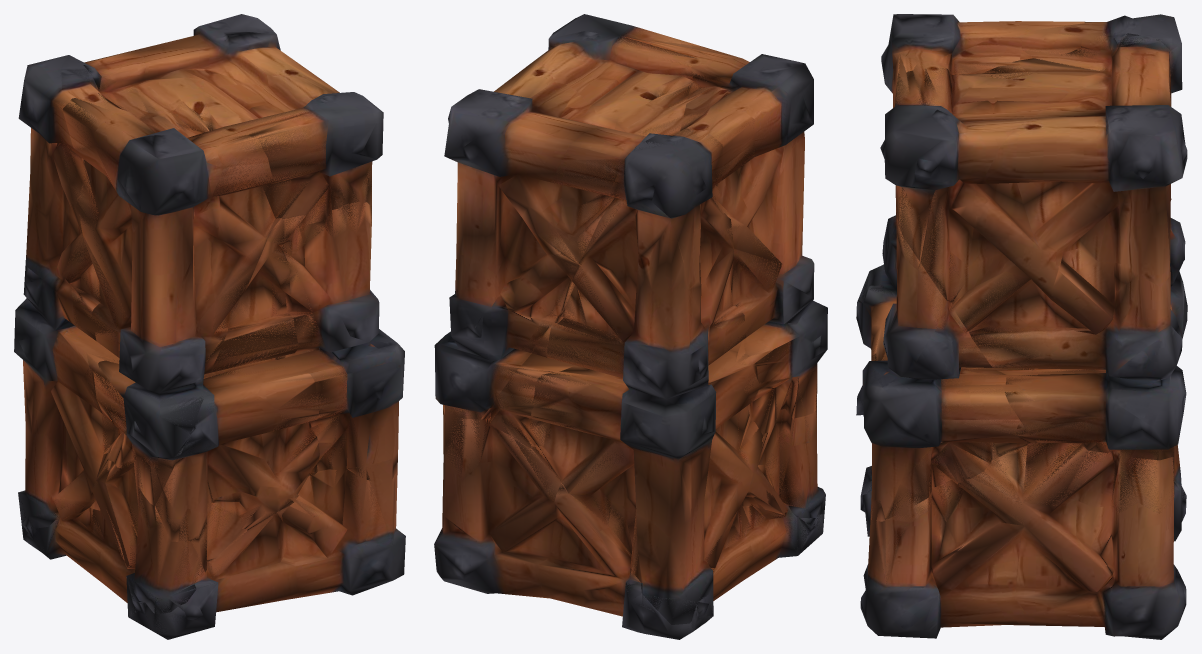
Rendered from cr_crate-DW7XRIh4.glb.
3 views of the same model, side by side, from view 1: azimuth 30°, elevation 25°; view 2: azimuth 150°, elevation 25°; view 3: azimuth 270°, elevation 25° (orthographic). The views are drawn at different scales.
Visible parts, largest first — view 1: frag_0, whole, frag_3, frag_2, frag_5, frag_8, frag_7, frag_1; view 2: frag_3, frag_2, frag_8, frag_0, whole, frag_1, frag_6; view 3: frag_2, frag_8, frag_7, whole, frag_0, frag_3, frag_5.
Part boxes in pixels (box(x1,y1,x2,y2)): frag_0: box(63, 93, 275, 505); whole: box(18, 55, 393, 634); frag_3: box(14, 55, 116, 531); frag_2: box(83, 14, 383, 225); frag_5: box(155, 218, 319, 543); frag_8: box(22, 468, 405, 639); frag_7: box(275, 202, 404, 480); frag_1: box(105, 358, 271, 613); frag_3: box(531, 128, 762, 624); frag_2: box(434, 14, 699, 419); frag_8: box(434, 409, 824, 639); frag_0: box(680, 46, 827, 436); whole: box(445, 26, 822, 633); frag_1: box(741, 408, 825, 518); frag_6: box(480, 307, 575, 448); frag_2: box(880, 33, 1187, 460); frag_8: box(860, 442, 1186, 639); frag_7: box(856, 218, 1036, 521); whole: box(857, 22, 1185, 583); frag_0: box(858, 14, 1084, 298); frag_3: box(1081, 14, 1187, 485); frag_5: box(856, 285, 896, 356).
Bounding box in the file's own units: 1.19 × 2.1 × 1.22.
1 material, 1 textured.
